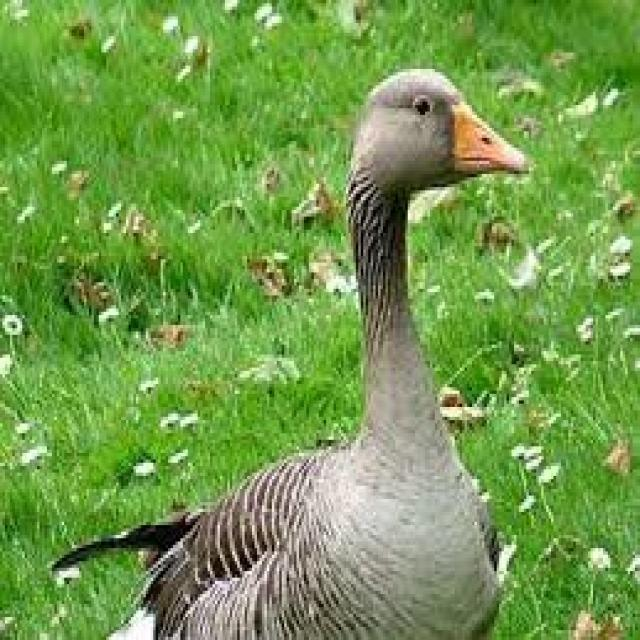Goose: (138, 73, 531, 640)
